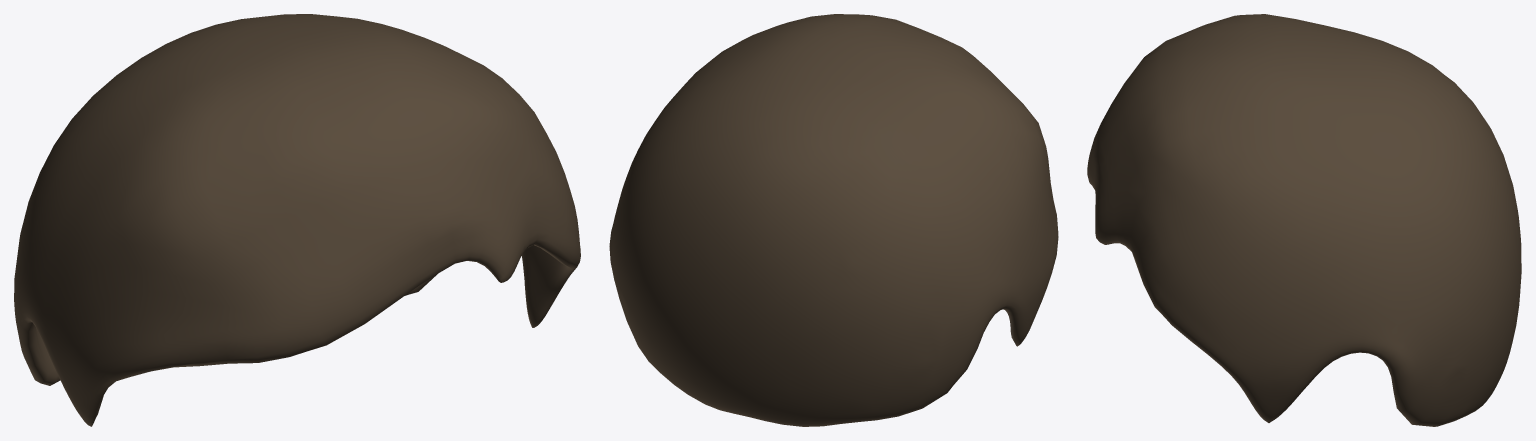
Rendered from Hair_Normal2.fbx.
3 views of the same model, side by side, from view 1: azimuth 30°, elevation 25°; view 2: azimuth 150°, elevation 25°; view 3: azimuth 270°, elevation 25° (orthographic). The views are drawn at different scales.
Parts seen in each view (by area): view 1: Hair6_LOD0.mo; view 2: Hair6_LOD0.mo; view 3: Hair6_LOD0.mo.
Part boxes in pixels (x1,y1,x2,y2): Hair6_LOD0.mo: (14,14,580,426); Hair6_LOD0.mo: (609,14,1058,426); Hair6_LOD0.mo: (1087,14,1521,426).
Size of the model in its own units: 85.91 by 65.32 by 77.62.
